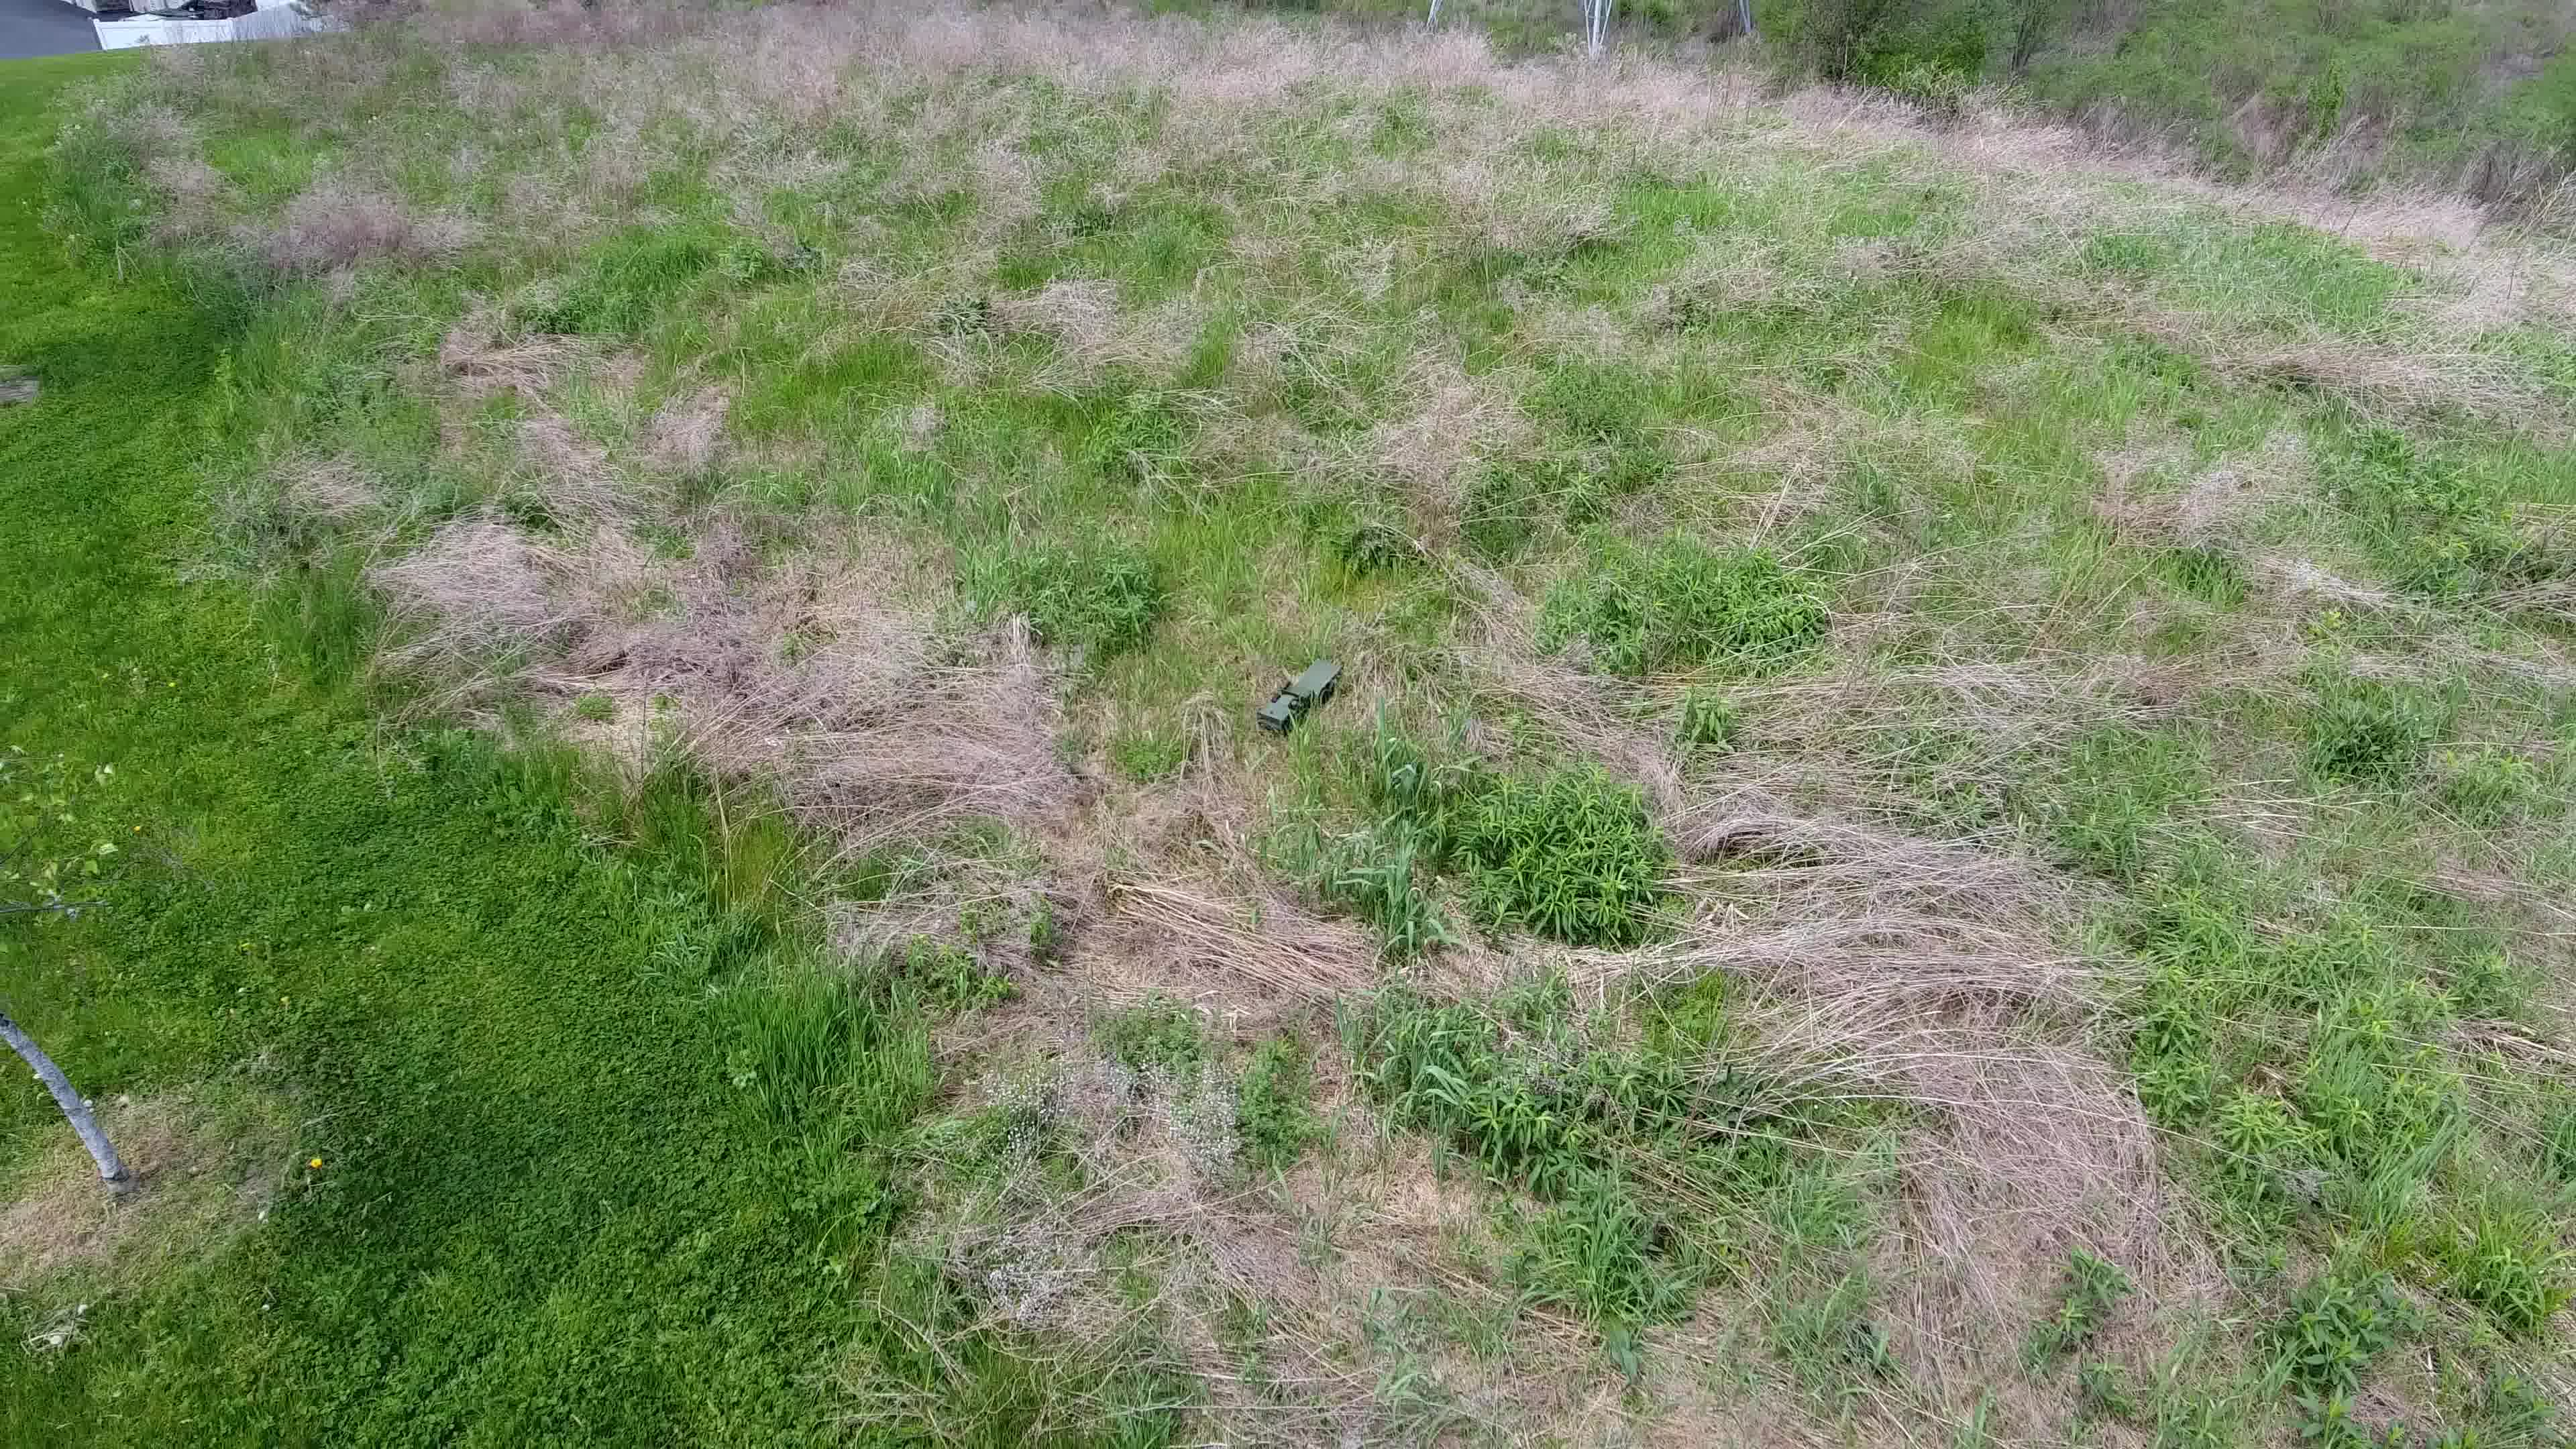transporter9: (1254, 649, 1343, 740)
